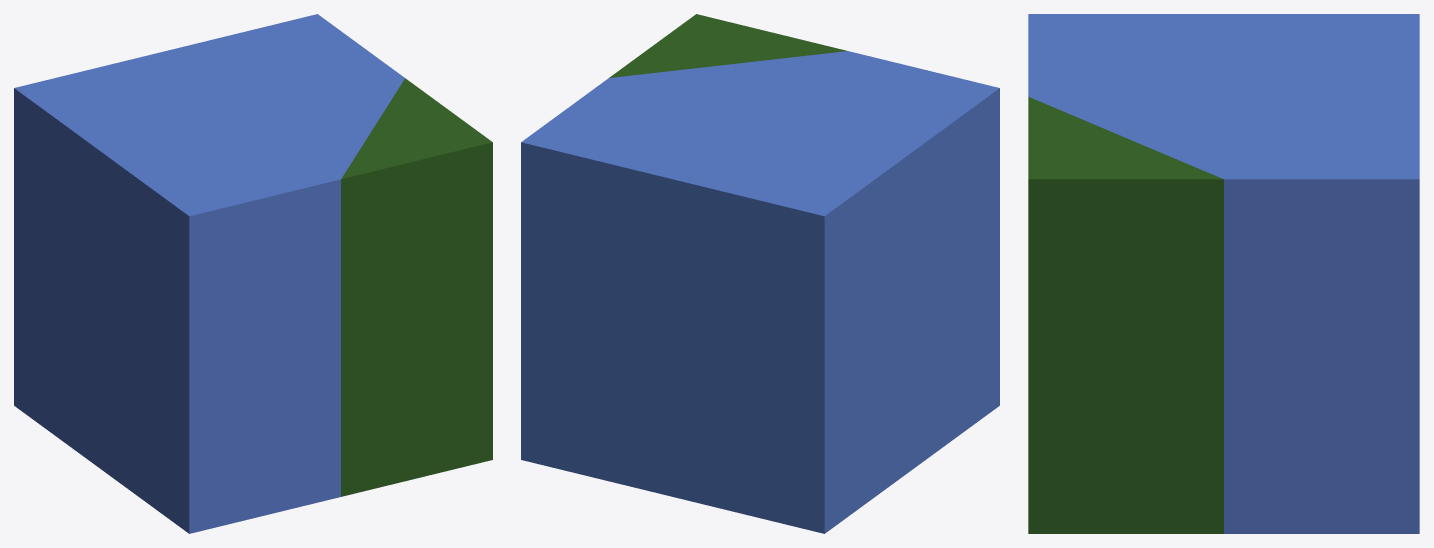
3 views of the same model, side by side, from view 1: azimuth 30°, elevation 25°; view 2: azimuth 150°, elevation 25°; view 3: azimuth 270°, elevation 25° (orthographic). The views are drawn at different scales.
Visible parts, largest first — view 1: 25_WATER, 25_GROUND; view 2: 25_WATER, 25_GROUND; view 3: 25_WATER, 25_GROUND.
Part boxes in pixels (<box>): 25_WATER: <box>14,14,404,533</box>; 25_GROUND: <box>341,78,492,496</box>; 25_WATER: <box>521,51,999,533</box>; 25_GROUND: <box>609,14,846,77</box>; 25_WATER: <box>1028,14,1419,533</box>; 25_GROUND: <box>1028,97,1223,533</box>.
Size of the model in its own units: 200 by 200 by 200.
